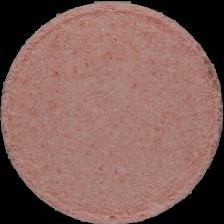54868-5381: (0, 0, 224, 224)
